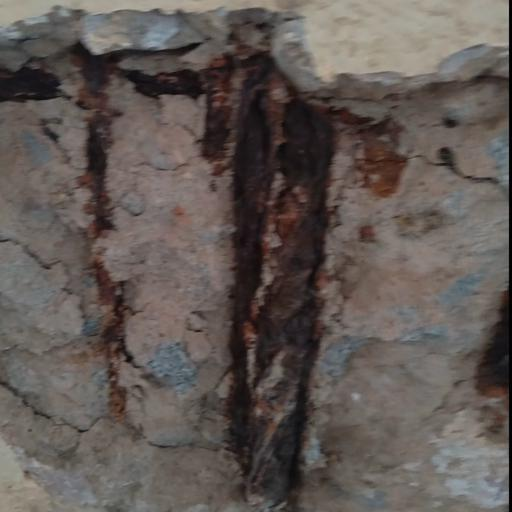spalling: (0, 25, 512, 482)
